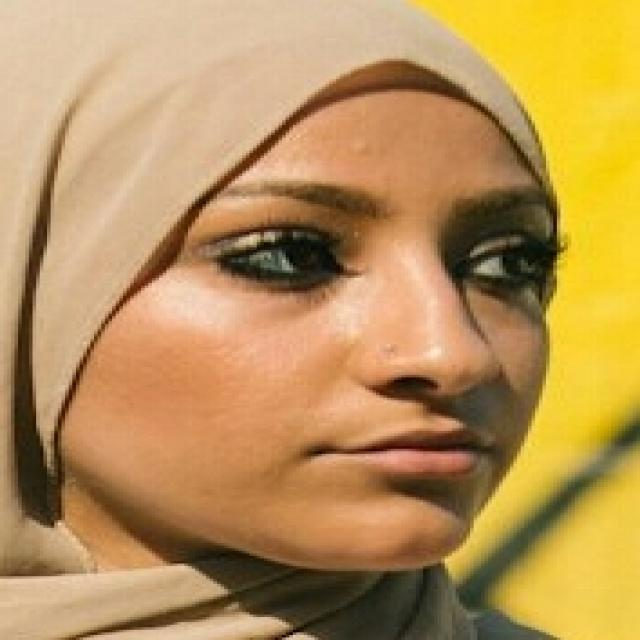front: (171, 191, 574, 543)
